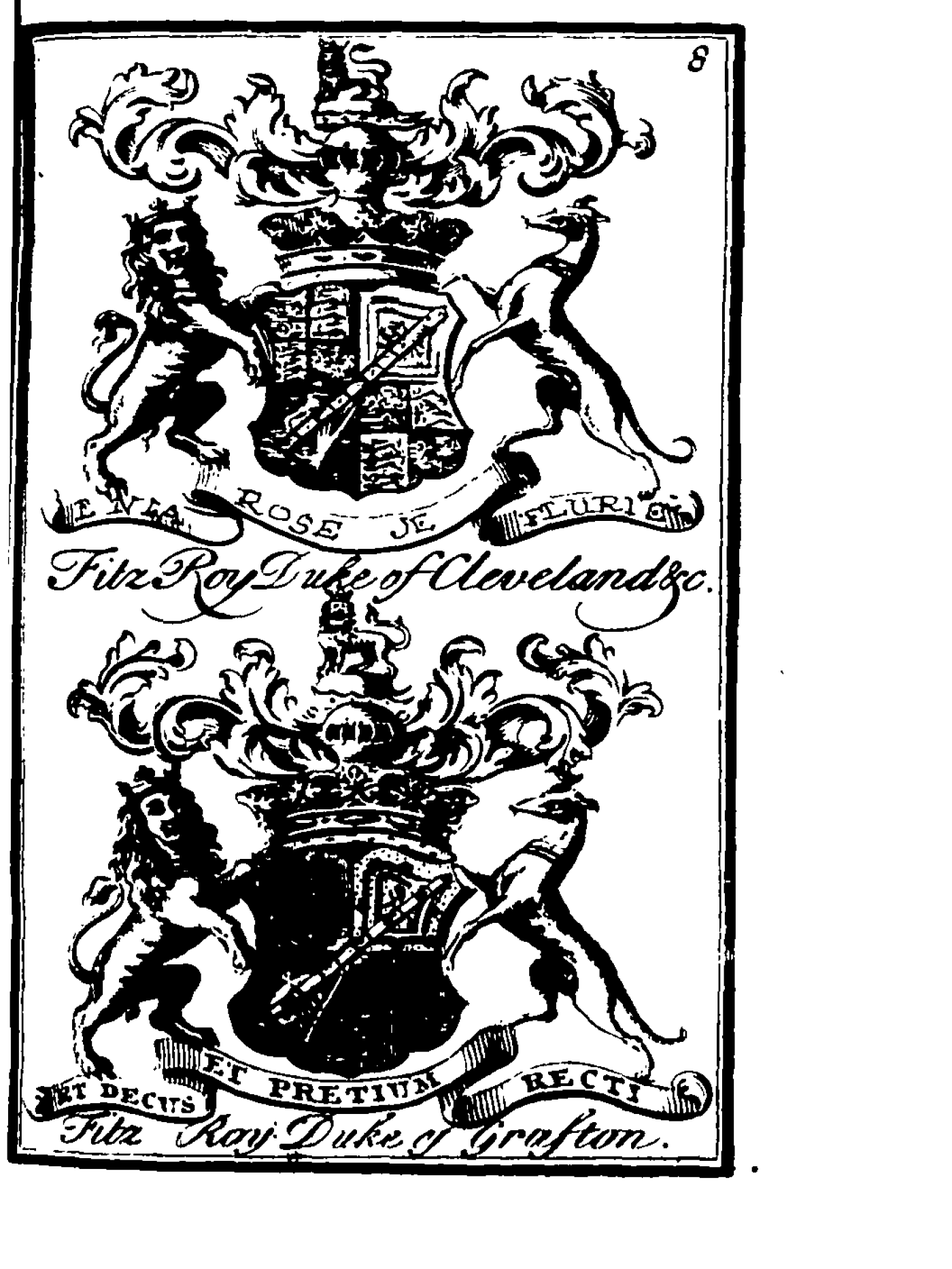coat_of_arms: (43, 39, 726, 603), (40, 603, 700, 1158)
